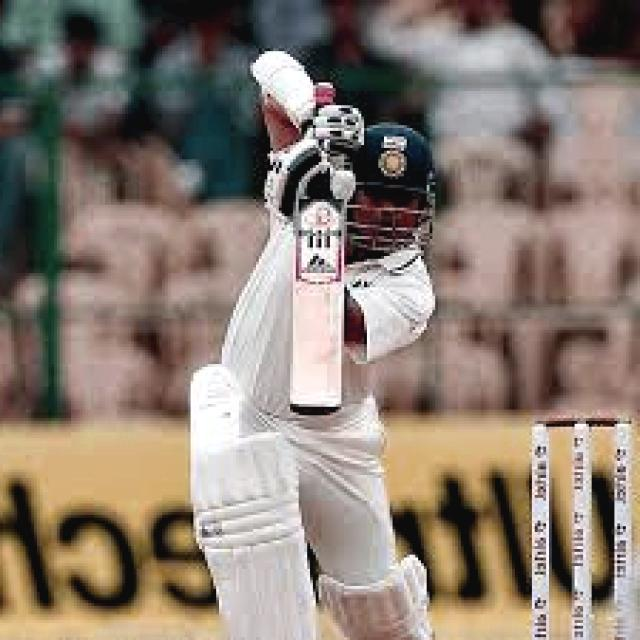bat: (291, 198, 345, 415)
toe: (289, 403, 347, 418)
